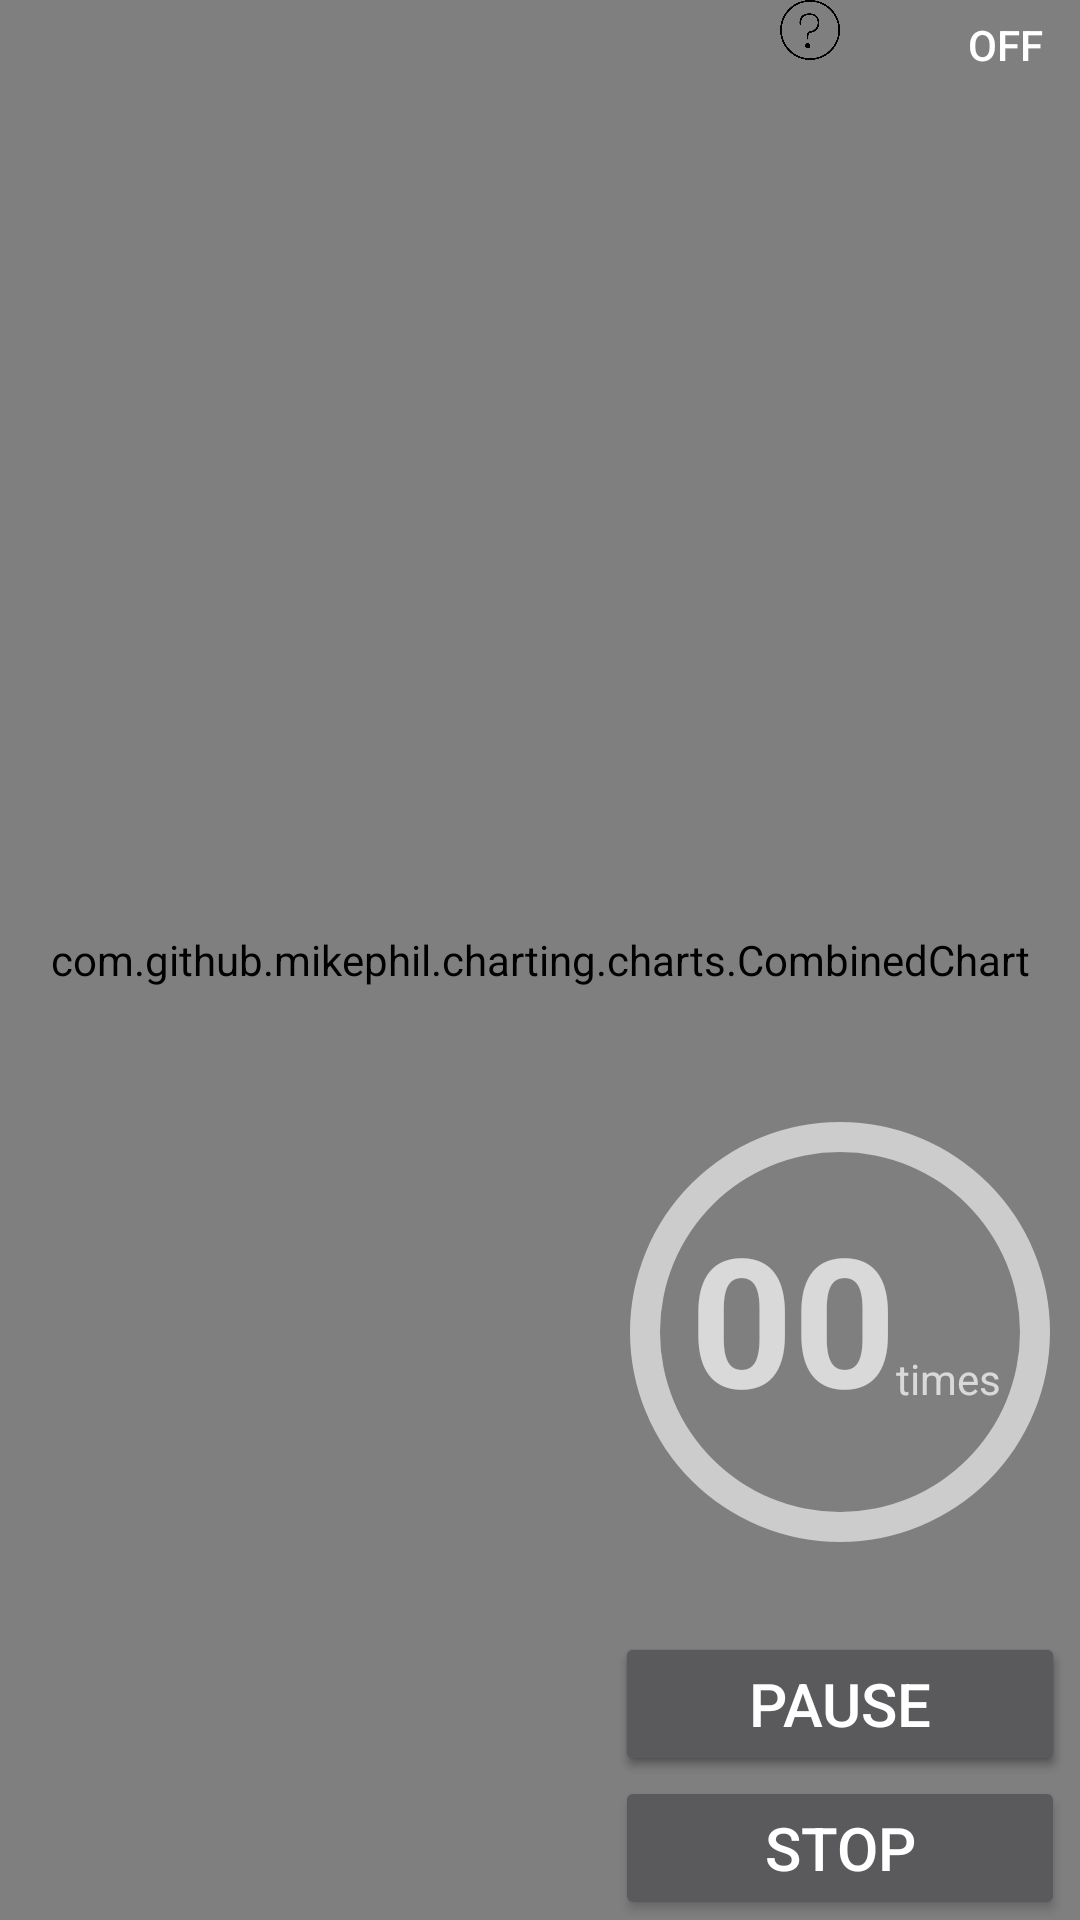

Where to tap for icons on this 1080*1920 app screen, as point (x, y):
alaramquestionmark: point (810, 30)
